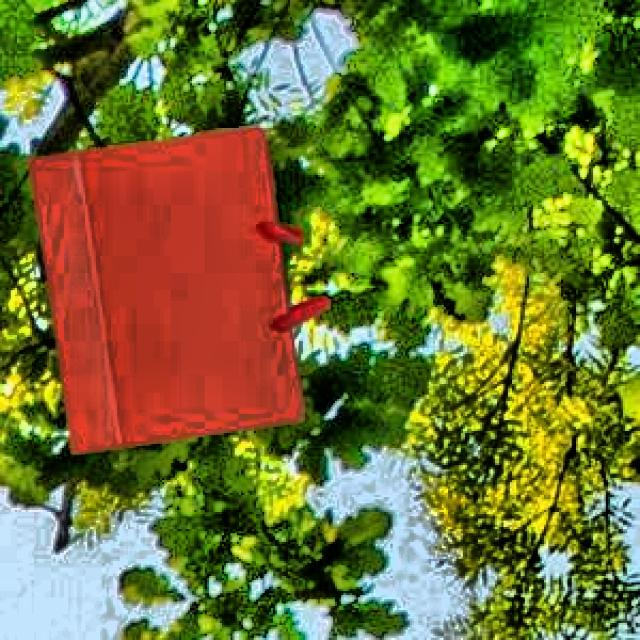Paper-bag: (18, 115, 342, 471)
